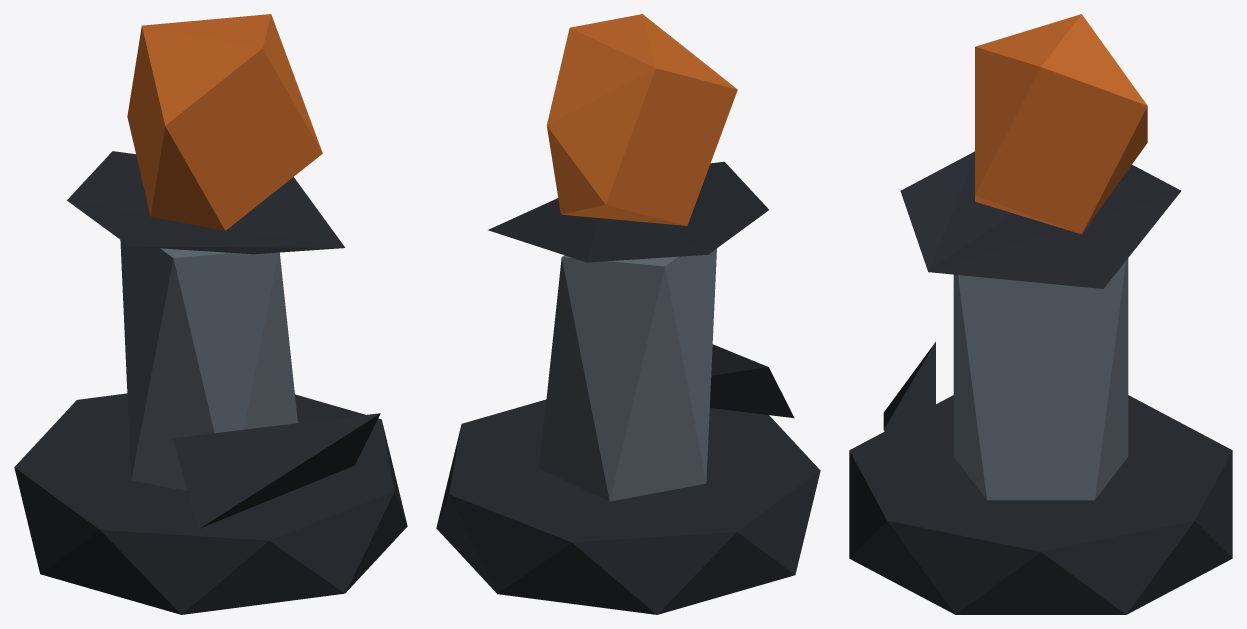
Rendered from shield-generator.lod.glb.
The picture shows the model from 3 angles, left to right: view 1: azimuth 30°, elevation 25°; view 2: azimuth 150°, elevation 25°; view 3: azimuth 270°, elevation 25°; orthographic projection. The views are drawn at different scales.
Parts seen in each view (by area): view 1: shield-generator; view 2: shield-generator; view 3: shield-generator.
Boxes of the visible parts, x1=… form: shield-generator: x1=14, y1=14, x2=407, y2=614; shield-generator: x1=436, y1=14, x2=820, y2=614; shield-generator: x1=849, y1=14, x2=1232, y2=614.
Size of the model in its own units: 0.3 by 0.4228 by 0.2925.
